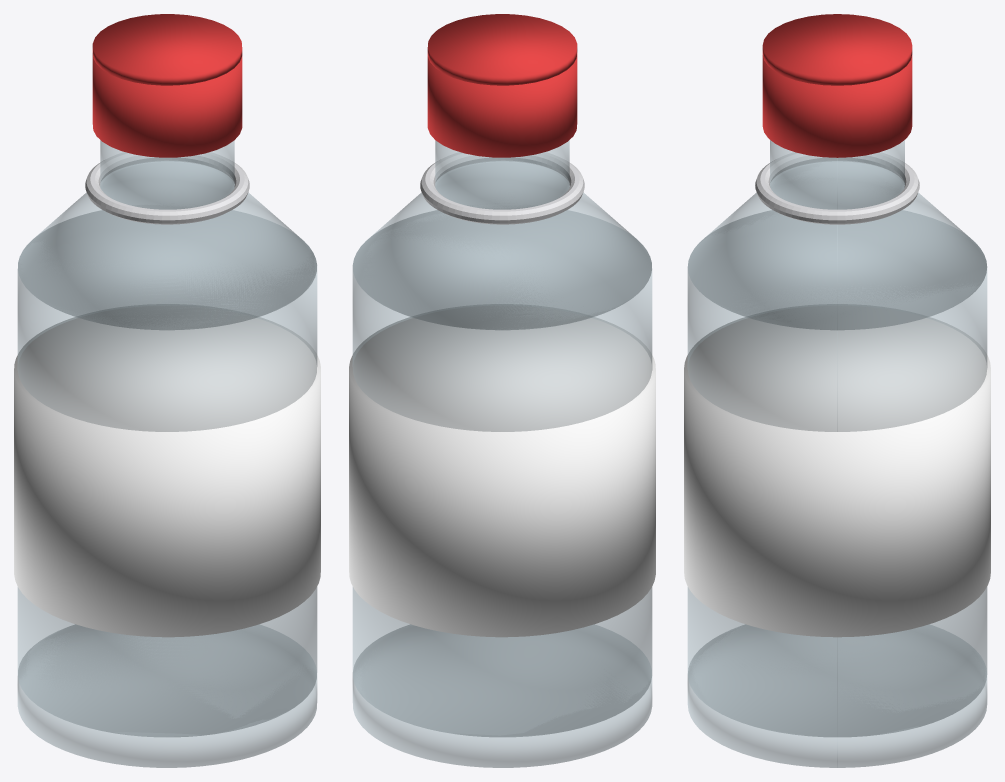
Rendered from standard.glb.
3 renders of one model, left to right at view 1: azimuth 30°, elevation 25°; view 2: azimuth 150°, elevation 25°; view 3: azimuth 270°, elevation 25°, orthographic.
Parts seen in each view (by area): view 1: Label, Upper_Body, Base, Shoulder, Lower_Body, Cap, Cap_Top, Neck, Collar; view 2: Label, Upper_Body, Base, Shoulder, Lower_Body, Cap, Cap_Top, Neck, Collar; view 3: Label, Upper_Body, Base, Shoulder, Lower_Body, Cap, Cap_Top, Neck, Collar.
Boxes of the visible parts, x1=… form: Label: x1=14, y1=304, x2=320, y2=637; Upper_Body: x1=17, y1=210, x2=317, y2=431; Base: x1=17, y1=624, x2=317, y2=767; Shoulder: x1=18, y1=161, x2=316, y2=330; Lower_Body: x1=17, y1=587, x2=317, y2=737; Cap: x1=92, y1=53, x2=242, y2=157; Cap_Top: x1=92, y1=14, x2=242, y2=85; Neck: x1=100, y1=140, x2=234, y2=209; Collar: x1=85, y1=152, x2=249, y2=224; Label: x1=349, y1=304, x2=655, y2=637; Upper_Body: x1=352, y1=210, x2=652, y2=431; Base: x1=352, y1=624, x2=652, y2=767; Shoulder: x1=353, y1=161, x2=651, y2=330; Lower_Body: x1=352, y1=587, x2=652, y2=737; Cap: x1=427, y1=53, x2=577, y2=157; Cap_Top: x1=427, y1=14, x2=577, y2=85; Neck: x1=435, y1=140, x2=569, y2=209; Collar: x1=420, y1=152, x2=584, y2=224; Label: x1=684, y1=304, x2=990, y2=637; Upper_Body: x1=687, y1=210, x2=987, y2=431; Base: x1=687, y1=624, x2=987, y2=767; Shoulder: x1=688, y1=161, x2=986, y2=330; Lower_Body: x1=687, y1=587, x2=987, y2=737; Cap: x1=762, y1=55, x2=912, y2=157; Cap_Top: x1=762, y1=14, x2=912, y2=85; Neck: x1=770, y1=140, x2=904, y2=209; Collar: x1=755, y1=152, x2=919, y2=224.
Size of the model in its own units: 1.64 by 3.88 by 1.64.
